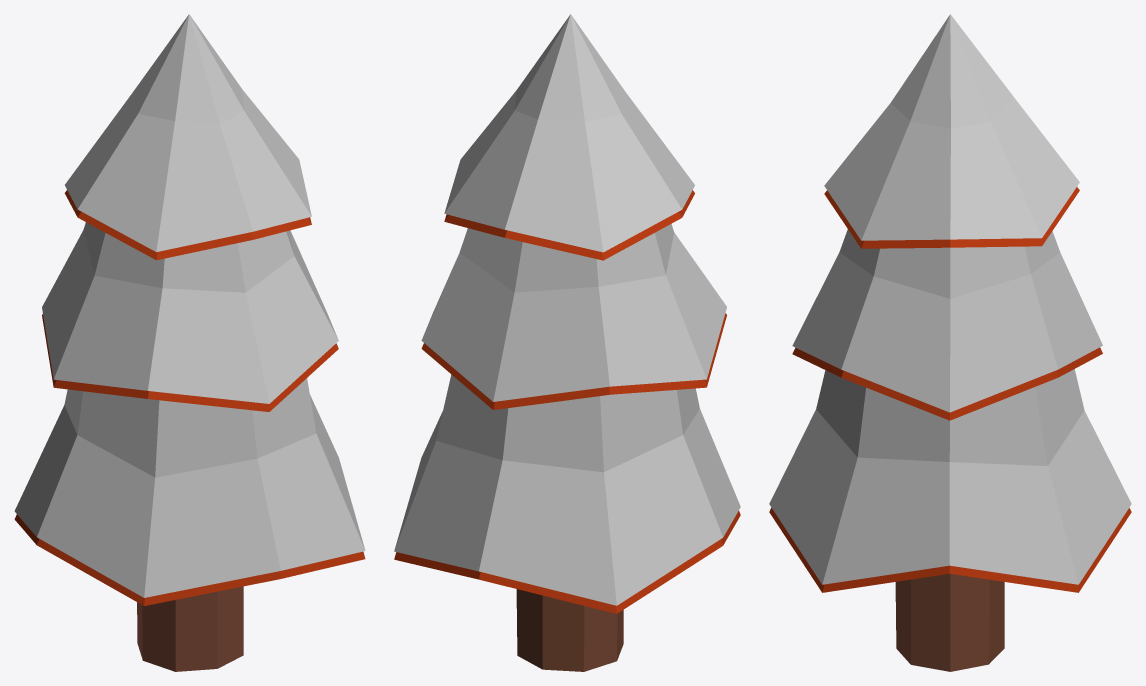
Rendered from Tree_01_winter_red_vc.fbx.
The picture shows the model from 3 angles, left to right: view 1: azimuth 30°, elevation 25°; view 2: azimuth 150°, elevation 25°; view 3: azimuth 270°, elevation 25°; orthographic projection.
Visible parts, largest first — view 1: Tree_01_winter_red_vc; view 2: Tree_01_winter_red_vc; view 3: Tree_01_winter_red_vc.
Part boxes in pixels (x1=…): Tree_01_winter_red_vc: x1=14, y1=14, x2=365, y2=671; Tree_01_winter_red_vc: x1=394, y1=14, x2=740, y2=671; Tree_01_winter_red_vc: x1=769, y1=14, x2=1131, y2=671.
Bounding box in the file's own units: 83.22 × 167 × 86.78.
